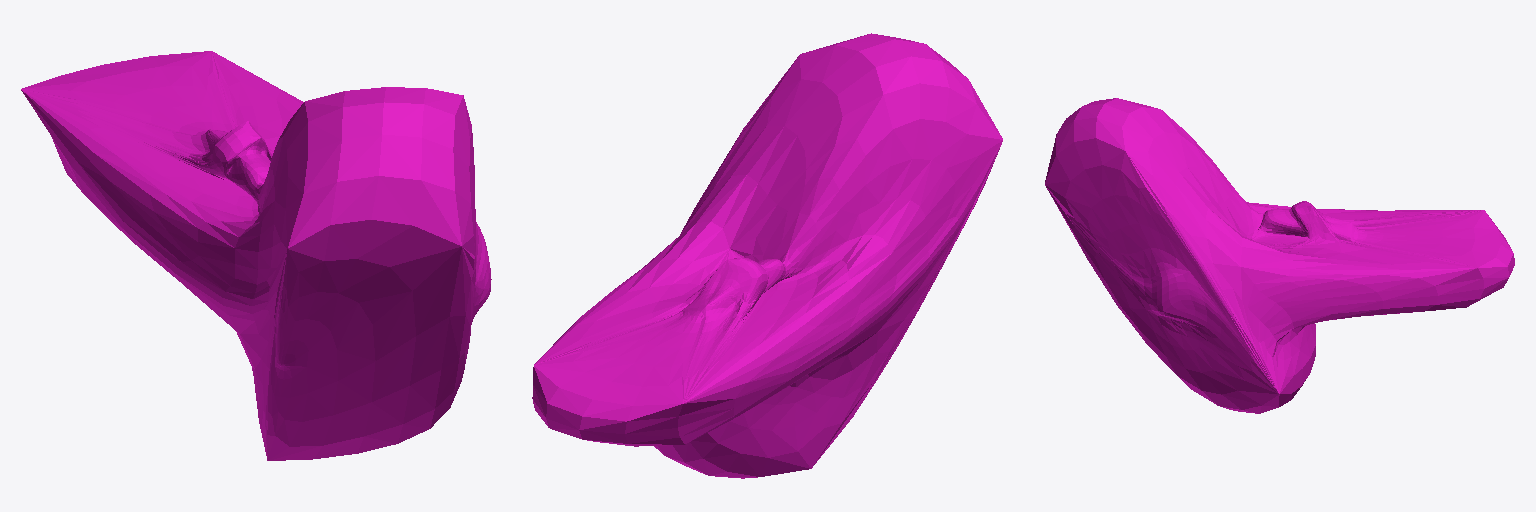
robot.urdf — blob004:

<robot name="blob004">
  <link name="random_obj_004">
    <contact>
      <lateral_friction value="1.0"/>
      <rolling_friction value="0.0"/>
      <inertia_scaling value="3.0"/>
      <contact_cfm value="0.0"/>
      <contact_erp value="1.0"/>
    </contact>
    <inertial>
      <origin rpy="0 0 0" xyz="0 0 0"/>
      <mass value="0.0873"/>
      <inertia ixx="1" ixy="0" ixz="0" iyy="1" iyz="0" izz="0"/>
    </inertial>
    <visual>
      <origin rpy="0 0 0" xyz="0 0 0"/>
      <geometry>
        <mesh filename="004.obj" scale="0.0059 0.0059 0.0059"/>
      </geometry>
      <material name="blockmat">
        <color rgba="0.89 0.15 0.78 1"/>
      </material>
    </visual>
    <collision>
      <origin rpy="0 0 0" xyz="0 0 0"/>
      <geometry>
        <mesh filename="004_coll.obj" scale="0.0059 0.0059 0.0059"/>
      </geometry>
    </collision>
  </link>
</robot>

--- Facts derived from the render (not from the file) ---
The picture shows the robot from 3 angles, left to right: view 1: azimuth 30°, elevation 25°; view 2: azimuth 150°, elevation 25°; view 3: azimuth 270°, elevation 25°; orthographic projection.
Robot: blob004 — 1 links, 0 joints (none); root link random_obj_004; default pose: all joints at 0.
Visible links, largest first — view 1: random_obj_004; view 2: random_obj_004; view 3: random_obj_004.
Boxes of the visible links, bbox=[...] form: random_obj_004: bbox=[21, 51, 491, 460]; random_obj_004: bbox=[532, 33, 1002, 478]; random_obj_004: bbox=[1045, 98, 1514, 413].
Size in the robot's own frame: 0.0433 by 0.0886 by 0.0575 metres.
Meshes: 1 distinct files referenced, 1 mesh visuals loaded (1 OBJ).
